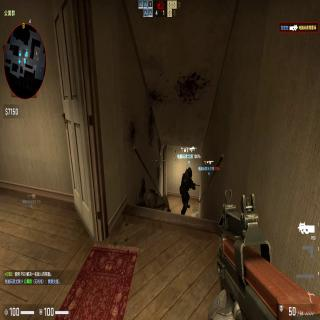CT-Head: (187, 166, 193, 178)
